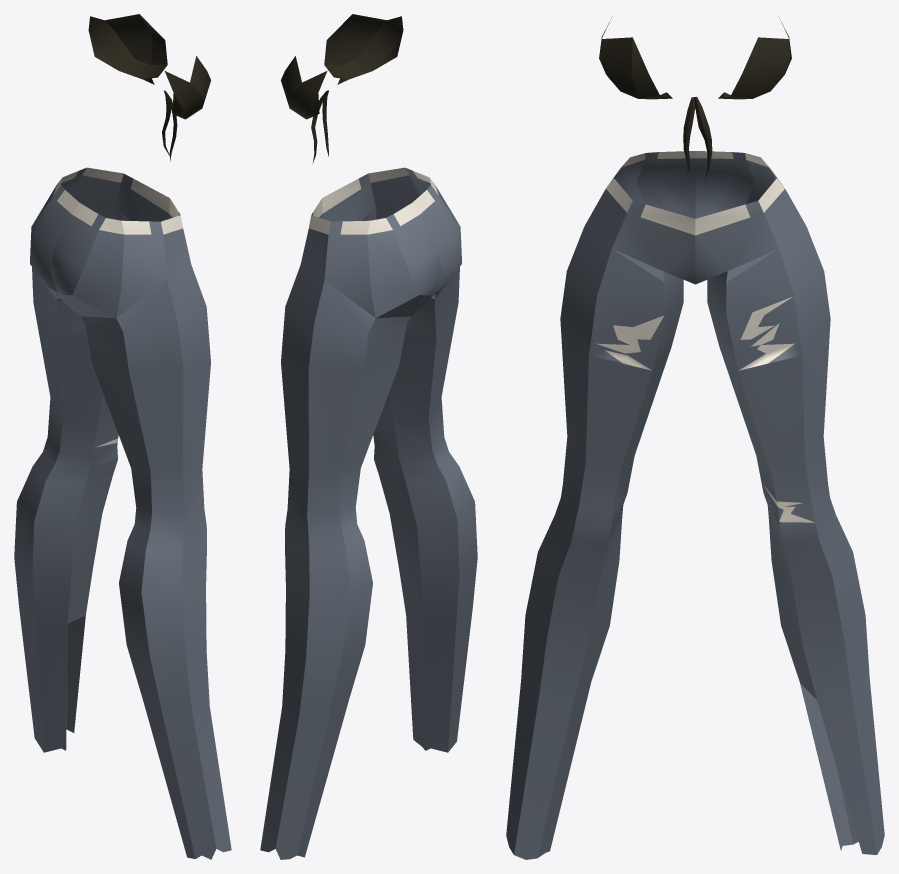
File: Lu_Jean_001.fbx
3 views of the same model, side by side, from view 1: azimuth 30°, elevation 25°; view 2: azimuth 150°, elevation 25°; view 3: azimuth 270°, elevation 25° (orthographic). The views are drawn at different scales.
Parts seen in each view (by area): view 1: Lu_Jean_001; view 2: Lu_Jean_001; view 3: Lu_Jean_001.
Part boxes in pixels (x1=…): Lu_Jean_001: x1=14, y1=14, x2=231, y2=859; Lu_Jean_001: x1=260, y1=14, x2=477, y2=859; Lu_Jean_001: x1=506, y1=16, x2=884, y2=859.
Bounding box in the file's own units: 2254 × 11712 × 4802.
